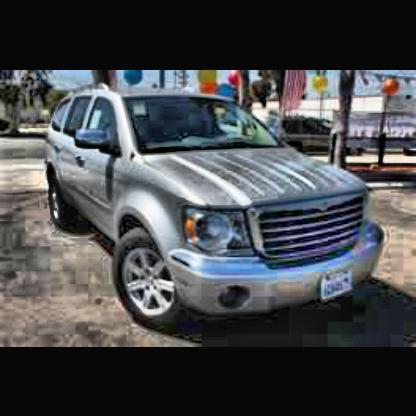Chrysler Aspen SUV 2009: (46, 83, 387, 339)
